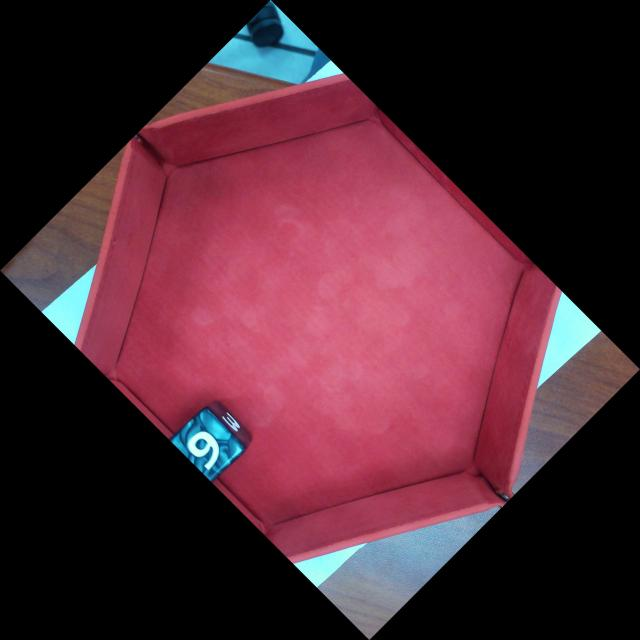dice: (165, 405, 247, 485)
